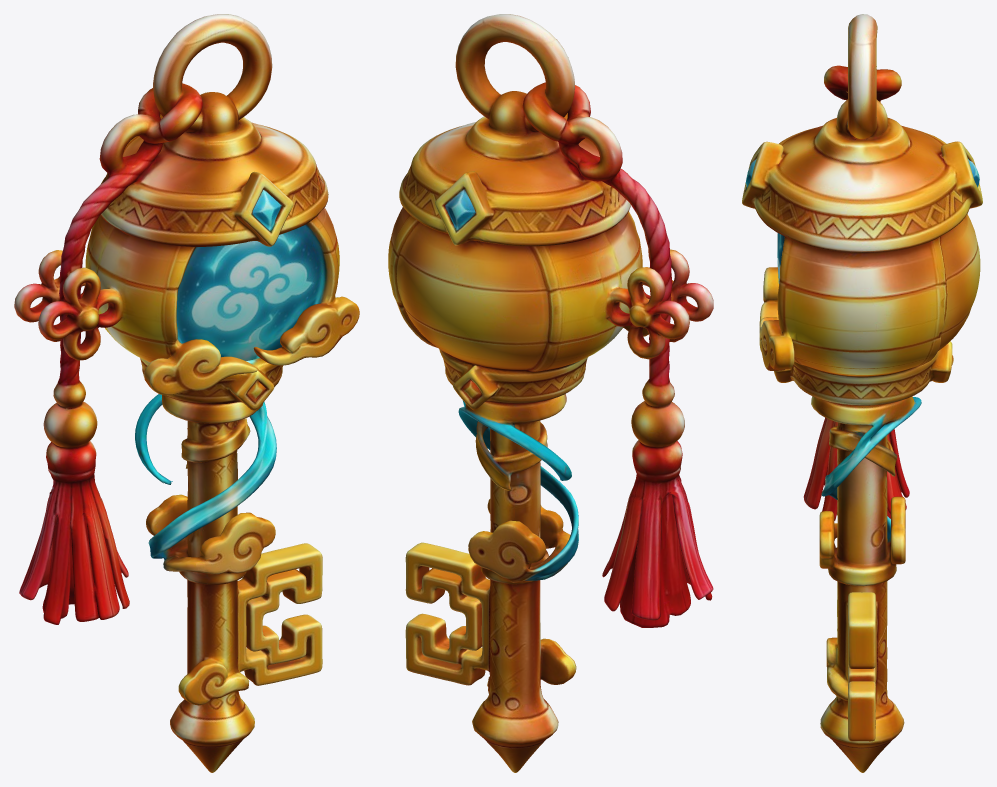
Rendered from llave_qi_celestial.glb.
The picture shows the model from 3 angles, left to right: view 1: azimuth 30°, elevation 25°; view 2: azimuth 150°, elevation 25°; view 3: azimuth 270°, elevation 25°; orthographic projection.
Visible parts, largest first — view 1: tripo_node_561d30fd; view 2: tripo_node_561d30fd; view 3: tripo_node_561d30fd.
Boxes of the visible parts, <box> form: tripo_node_561d30fd: <box>14,14,359,772</box>; tripo_node_561d30fd: <box>388,14,713,772</box>; tripo_node_561d30fd: <box>742,14,982,772</box>.
Size of the model in its own units: 0.5275 by 1.25 by 0.3627.
1 material, 1 textured.
